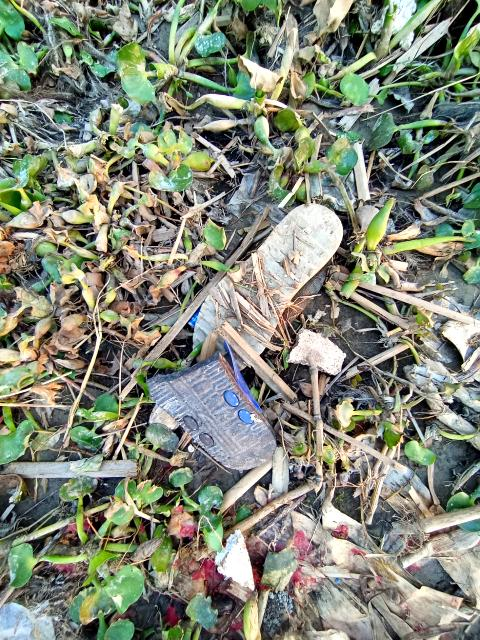sandal: (170, 192, 360, 403), (130, 314, 304, 504)
